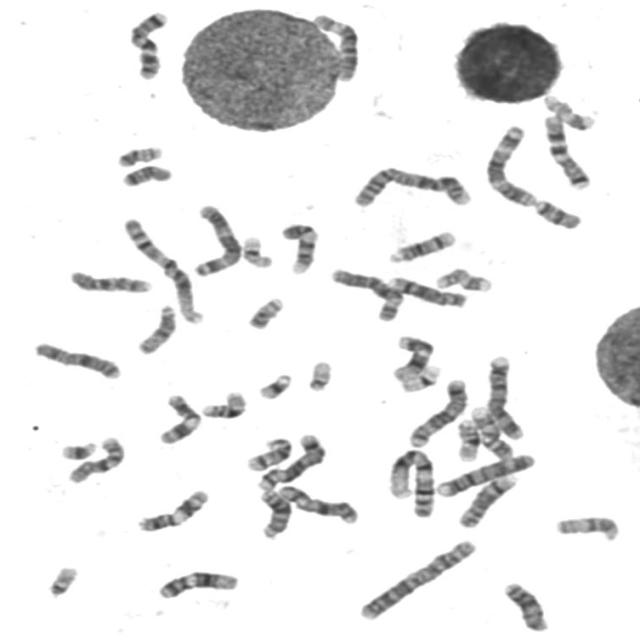A1: (118, 214, 205, 326), (384, 445, 439, 520)
A2: (354, 536, 480, 622), (349, 163, 475, 209)
A3: (482, 122, 540, 208), (189, 201, 244, 278)
B4: (433, 450, 538, 499), (484, 352, 527, 442)
B5: (404, 374, 471, 448), (253, 431, 329, 492)
C10: (65, 433, 128, 485), (66, 267, 156, 295)
C11: (132, 486, 212, 534), (155, 391, 202, 446)
C12: (154, 568, 241, 600), (389, 332, 437, 383)
C6: (326, 264, 406, 323), (309, 10, 363, 82)
C7: (539, 111, 594, 191), (126, 7, 170, 82)
C8: (455, 472, 520, 530), (386, 273, 469, 309)
C9: (467, 402, 516, 462), (277, 219, 321, 276)
D13: (499, 578, 552, 634), (256, 486, 294, 540)
D14: (386, 228, 459, 264), (243, 434, 295, 473)
D15: (134, 301, 180, 356), (552, 512, 623, 543)
E16: (197, 387, 249, 420), (452, 416, 483, 462)
E17: (540, 91, 598, 132), (432, 264, 494, 294)
E18: (530, 196, 584, 231), (118, 162, 175, 188)
F19: (397, 362, 444, 394), (238, 232, 275, 270)
F20: (245, 294, 286, 331), (114, 143, 165, 169)
G21: (254, 371, 295, 402), (56, 438, 100, 462)
G22: (43, 562, 81, 599), (303, 358, 335, 392)
X: (30, 338, 124, 381), (275, 482, 361, 526)
